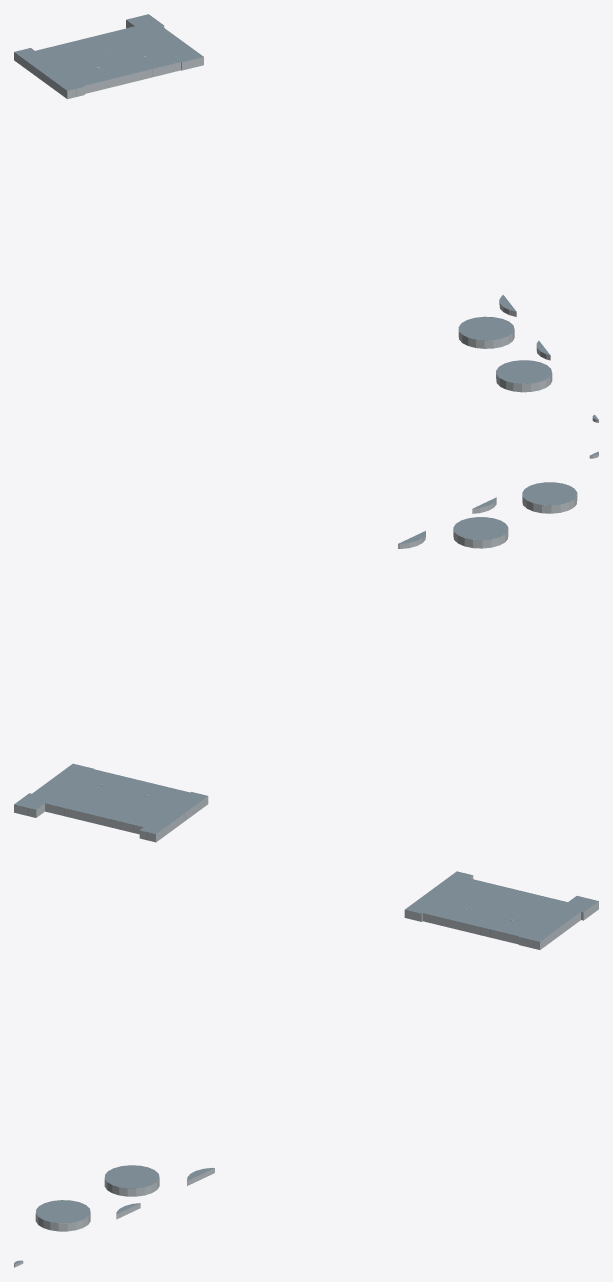
File: SM_MPR_Env_Far_E_Buildings.fbx
The picture shows the model from 3 angles, top to bottom: view 1: azimuth 30°, elevation 25°; view 2: azimuth 150°, elevation 25°; view 3: azimuth 330°, elevation 25°; orthographic projection.
Parts seen in each view (by area): view 1: SM_MPR_Env_Far_E_Buildings; view 2: SM_MPR_Env_Far_E_Buildings; view 3: SM_MPR_Env_Far_E_Buildings.
Part boxes in pixels (bbox=[...]): SM_MPR_Env_Far_E_Buildings: bbox=[14, 14, 598, 422]; SM_MPR_Env_Far_E_Buildings: bbox=[14, 451, 598, 842]; SM_MPR_Env_Far_E_Buildings: bbox=[14, 871, 598, 1267].
Bounding box in the file's own units: 15922 × 103148 × 963.
